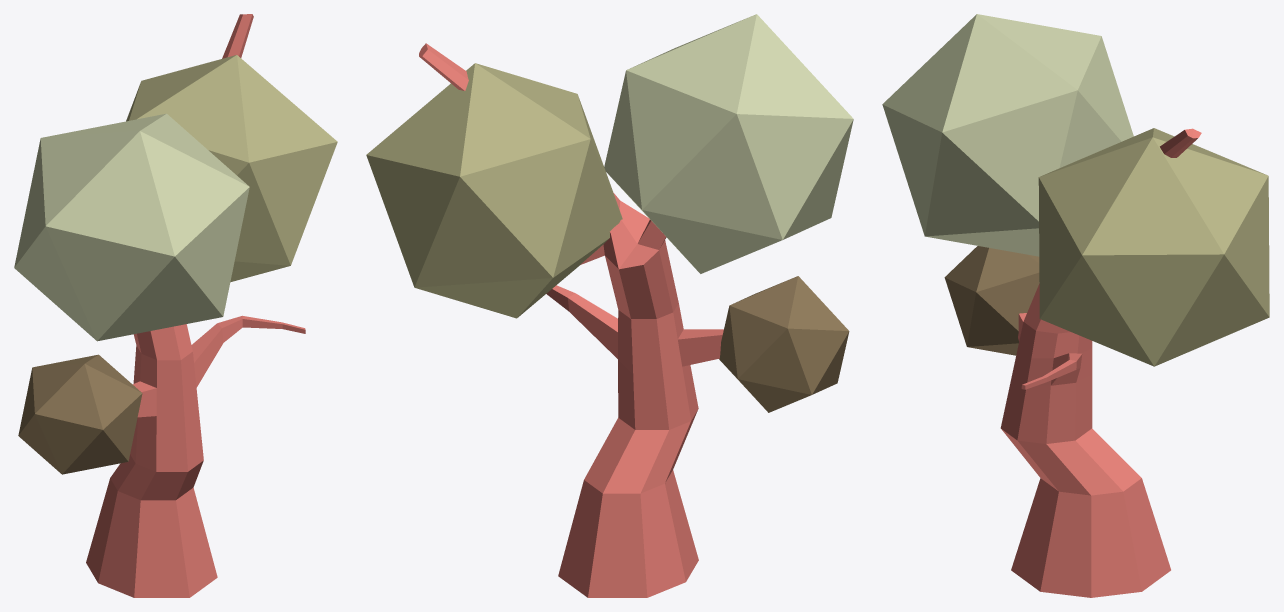
File: 01_05Tree_Brown.fbx
The picture shows the model from 3 angles, left to right: view 1: azimuth 30°, elevation 25°; view 2: azimuth 150°, elevation 25°; view 3: azimuth 270°, elevation 25°; orthographic projection. The views are drawn at different scales.
Visible parts, largest first — view 1: Cube.014; view 2: Cube.014; view 3: Cube.014.
Boxes of the visible parts, box(x1,y1,x2,y2) form: Cube.014: box(14, 14, 337, 597); Cube.014: box(366, 14, 853, 597); Cube.014: box(882, 14, 1269, 597).
Bounding box in the file's own units: 184 × 253 × 170.
